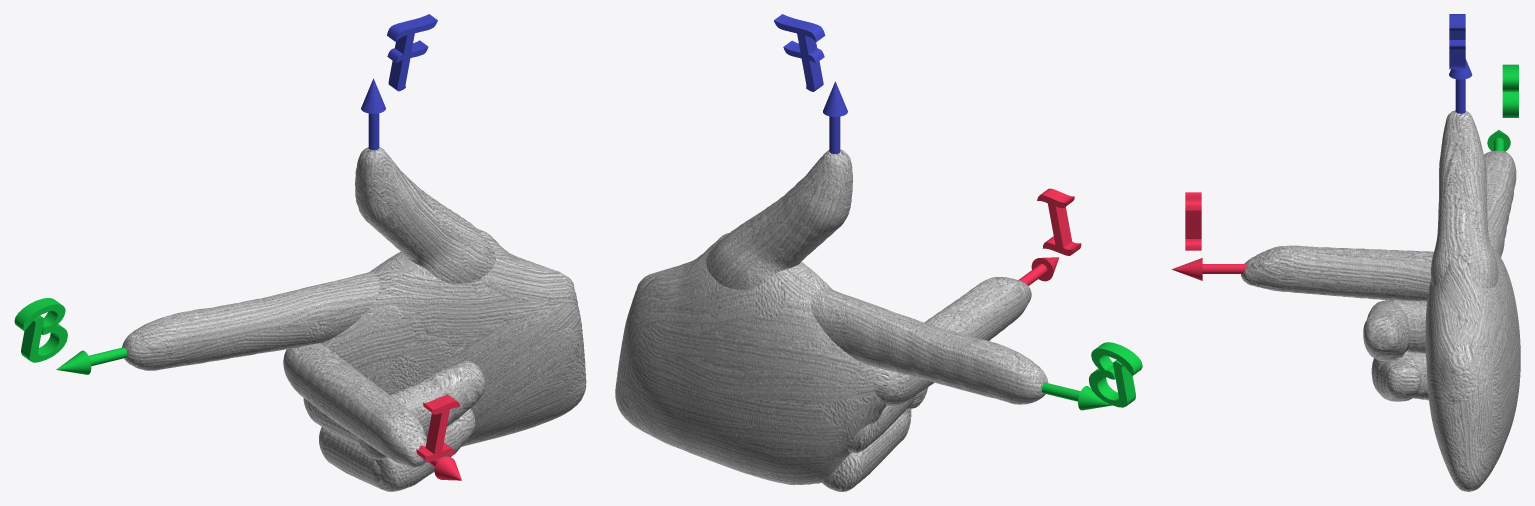
File: fleming-right.glb
3 views of the same model, side by side, from view 1: azimuth 30°, elevation 25°; view 2: azimuth 150°, elevation 25°; view 3: azimuth 270°, elevation 25° (orthographic). The views are drawn at different scales.
Visible parts, largest first — view 1: mesh-hand-6, mesh-hand-4, mesh-hand-0, mesh-hand-2, mesh-letter-B, mesh-hand-3, mesh-letter-F, mesh-hand-5, mesh-letter-I, mesh-hand-1; view 2: mesh-hand-6, mesh-hand-4, mesh-hand-0, mesh-letter-B, mesh-hand-5, mesh-letter-F, mesh-letter-I, mesh-hand-1; view 3: mesh-hand-6, mesh-hand-4, mesh-hand-0, mesh-hand-2, mesh-hand-3, mesh-hand-1, mesh-letter-I, mesh-letter-F, mesh-letter-B, mesh-hand-5, mesh-arrow-I-shaft, mesh-arrow-I-head.
Part boxes in pixels (x1,y1,x2,y2): mesh-hand-6: [321, 229, 586, 446]; mesh-hand-4: [122, 147, 571, 370]; mesh-hand-0: [283, 343, 427, 467]; mesh-hand-2: [358, 361, 485, 459]; mesh-letter-B: [14, 298, 67, 362]; mesh-hand-3: [375, 408, 475, 491]; mesh-letter-F: [387, 14, 437, 91]; mesh-hand-5: [319, 427, 380, 488]; mesh-letter-I: [416, 395, 460, 461]; mesh-hand-1: [303, 398, 359, 445]; mesh-hand-6: [615, 233, 886, 485]; mesh-hand-4: [706, 149, 1048, 404]; mesh-hand-0: [873, 277, 1031, 405]; mesh-letter-B: [1089, 342, 1142, 407]; mesh-hand-5: [822, 412, 909, 491]; mesh-letter-F: [774, 14, 825, 91]; mesh-letter-I: [1037, 188, 1081, 255]; mesh-hand-1: [848, 395, 916, 452]; mesh-hand-6: [1425, 247, 1520, 491]; mesh-hand-4: [1431, 110, 1516, 365]; mesh-hand-0: [1241, 245, 1433, 301]; mesh-hand-2: [1363, 300, 1410, 360]; mesh-hand-3: [1371, 351, 1421, 401]; mesh-hand-1: [1385, 299, 1427, 353]; mesh-letter-I: [1185, 192, 1201, 250]; mesh-letter-F: [1449, 14, 1465, 69]; mesh-letter-B: [1502, 64, 1518, 117]; mesh-hand-5: [1409, 352, 1428, 400]; mesh-arrow-I-shaft: [1202, 264, 1246, 273]; mesh-arrow-I-head: [1171, 258, 1202, 280].
Size of the model in its own units: 0.5356 by 0.4201 by 0.3219.
10 materials, 7 textured.
